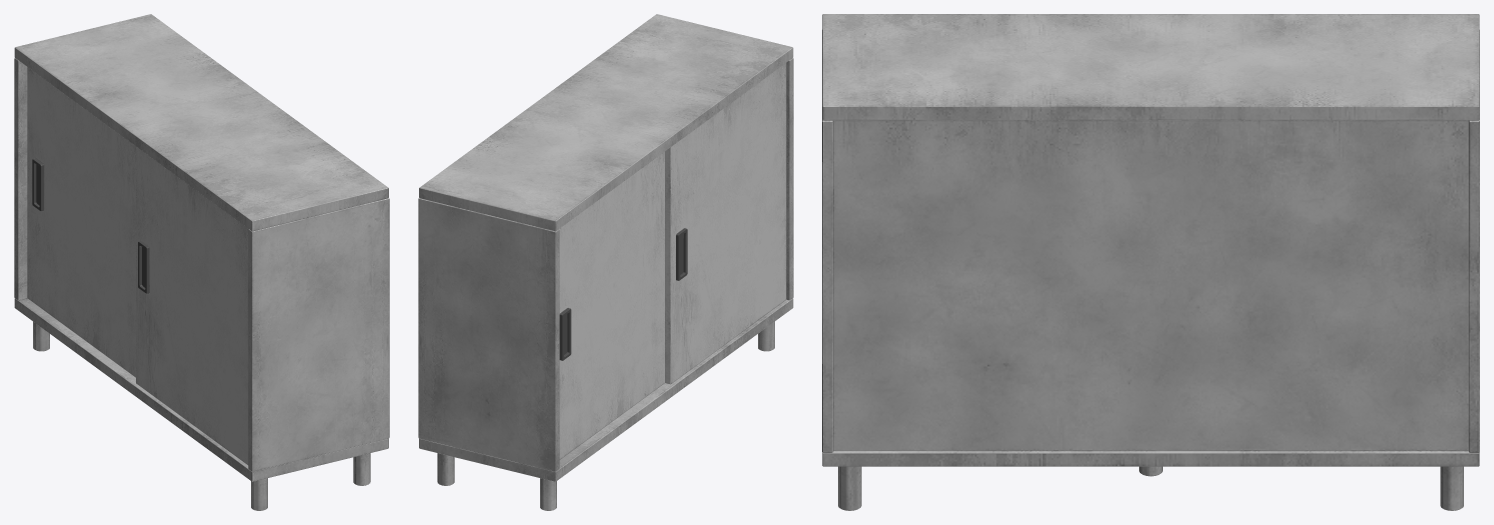
File: SM_CabinetSteel_01_Narrow.fbx
The picture shows the model from 3 angles, left to right: view 1: azimuth 30°, elevation 25°; view 2: azimuth 150°, elevation 25°; view 3: azimuth 270°, elevation 25°; orthographic projection. The views are drawn at different scales.
Visible parts, largest first — view 1: SM_CabinetSteel_01_Narrow_LOD0; view 2: SM_CabinetSteel_01_Narrow_LOD0; view 3: SM_CabinetSteel_01_Narrow_LOD0.
Boxes of the visible parts, x1,y1,x2,y2 form: SM_CabinetSteel_01_Narrow_LOD0: (14,14,389,510); SM_CabinetSteel_01_Narrow_LOD0: (418,14,793,510); SM_CabinetSteel_01_Narrow_LOD0: (822,14,1479,510).
Size of the model in its own units: 40.13 by 120 by 83.
1 material, 1 textured.
